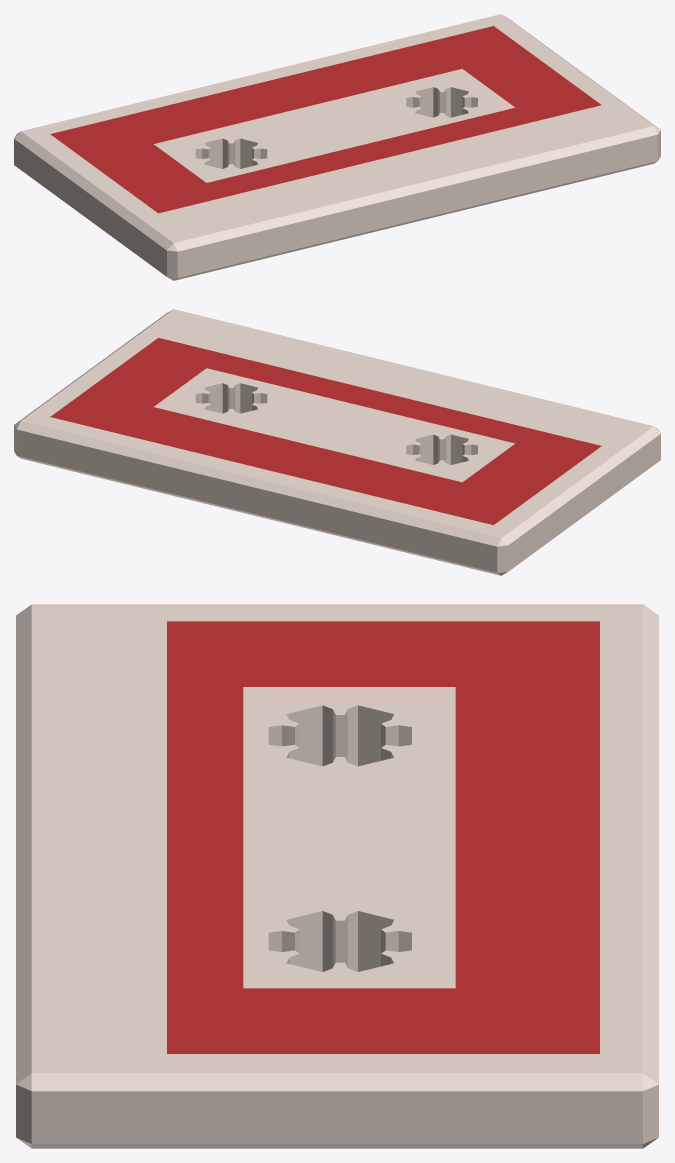
File: Audio_cassette_4.fbx
3 renders of one model, top to bottom at view 1: azimuth 30°, elevation 25°; view 2: azimuth 150°, elevation 25°; view 3: azimuth 270°, elevation 25°, orthographic. The views are drawn at different scales.
Parts seen in each view (by area): view 1: Audio_cassette_4; view 2: Audio_cassette_4; view 3: Audio_cassette_4.
Part boxes in pixels (left/top/right/bottom): Audio_cassette_4: left=14, top=14, right=660, bottom=280; Audio_cassette_4: left=14, top=309, right=660, bottom=575; Audio_cassette_4: left=16, top=604, right=658, bottom=1148.
Bounding box in the file's own units: 9.69 × 5.46 × 0.7269.
